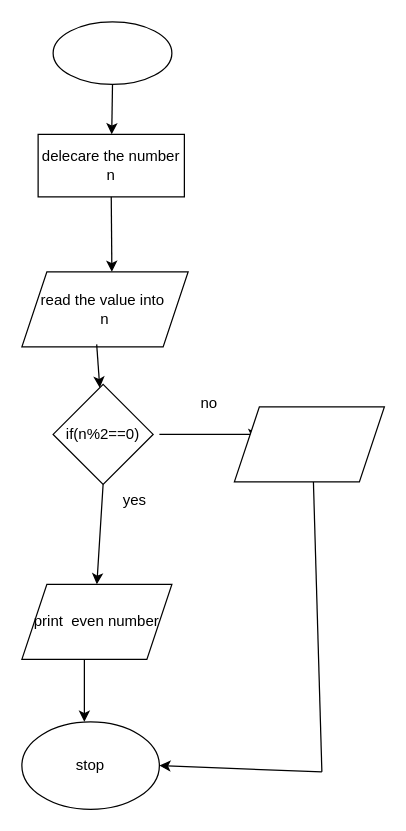
Some shapes in this 406 by 831 pixel diagram are drawn without their labels. The box of each missing label's shape, as (x1, y1, x2, y2) in pixels:
print odd: (233, 406, 384, 482)
start: (52, 21, 172, 84)
